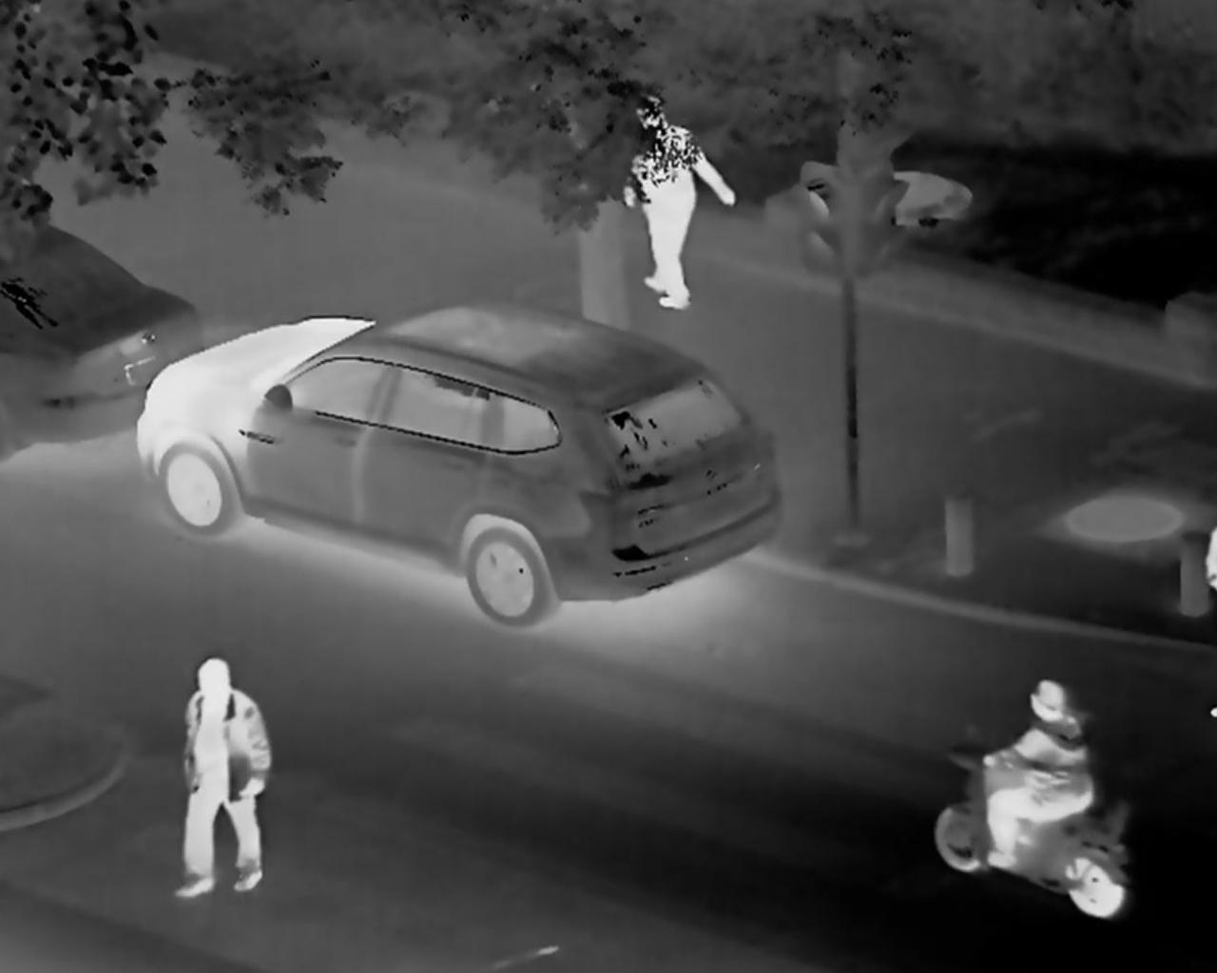person: (618, 94, 760, 322), (982, 678, 1108, 898), (184, 652, 296, 887)
